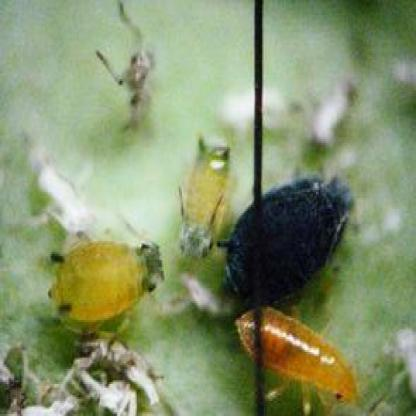aphid: (230, 297, 376, 416), (42, 224, 170, 331), (180, 126, 233, 266)
